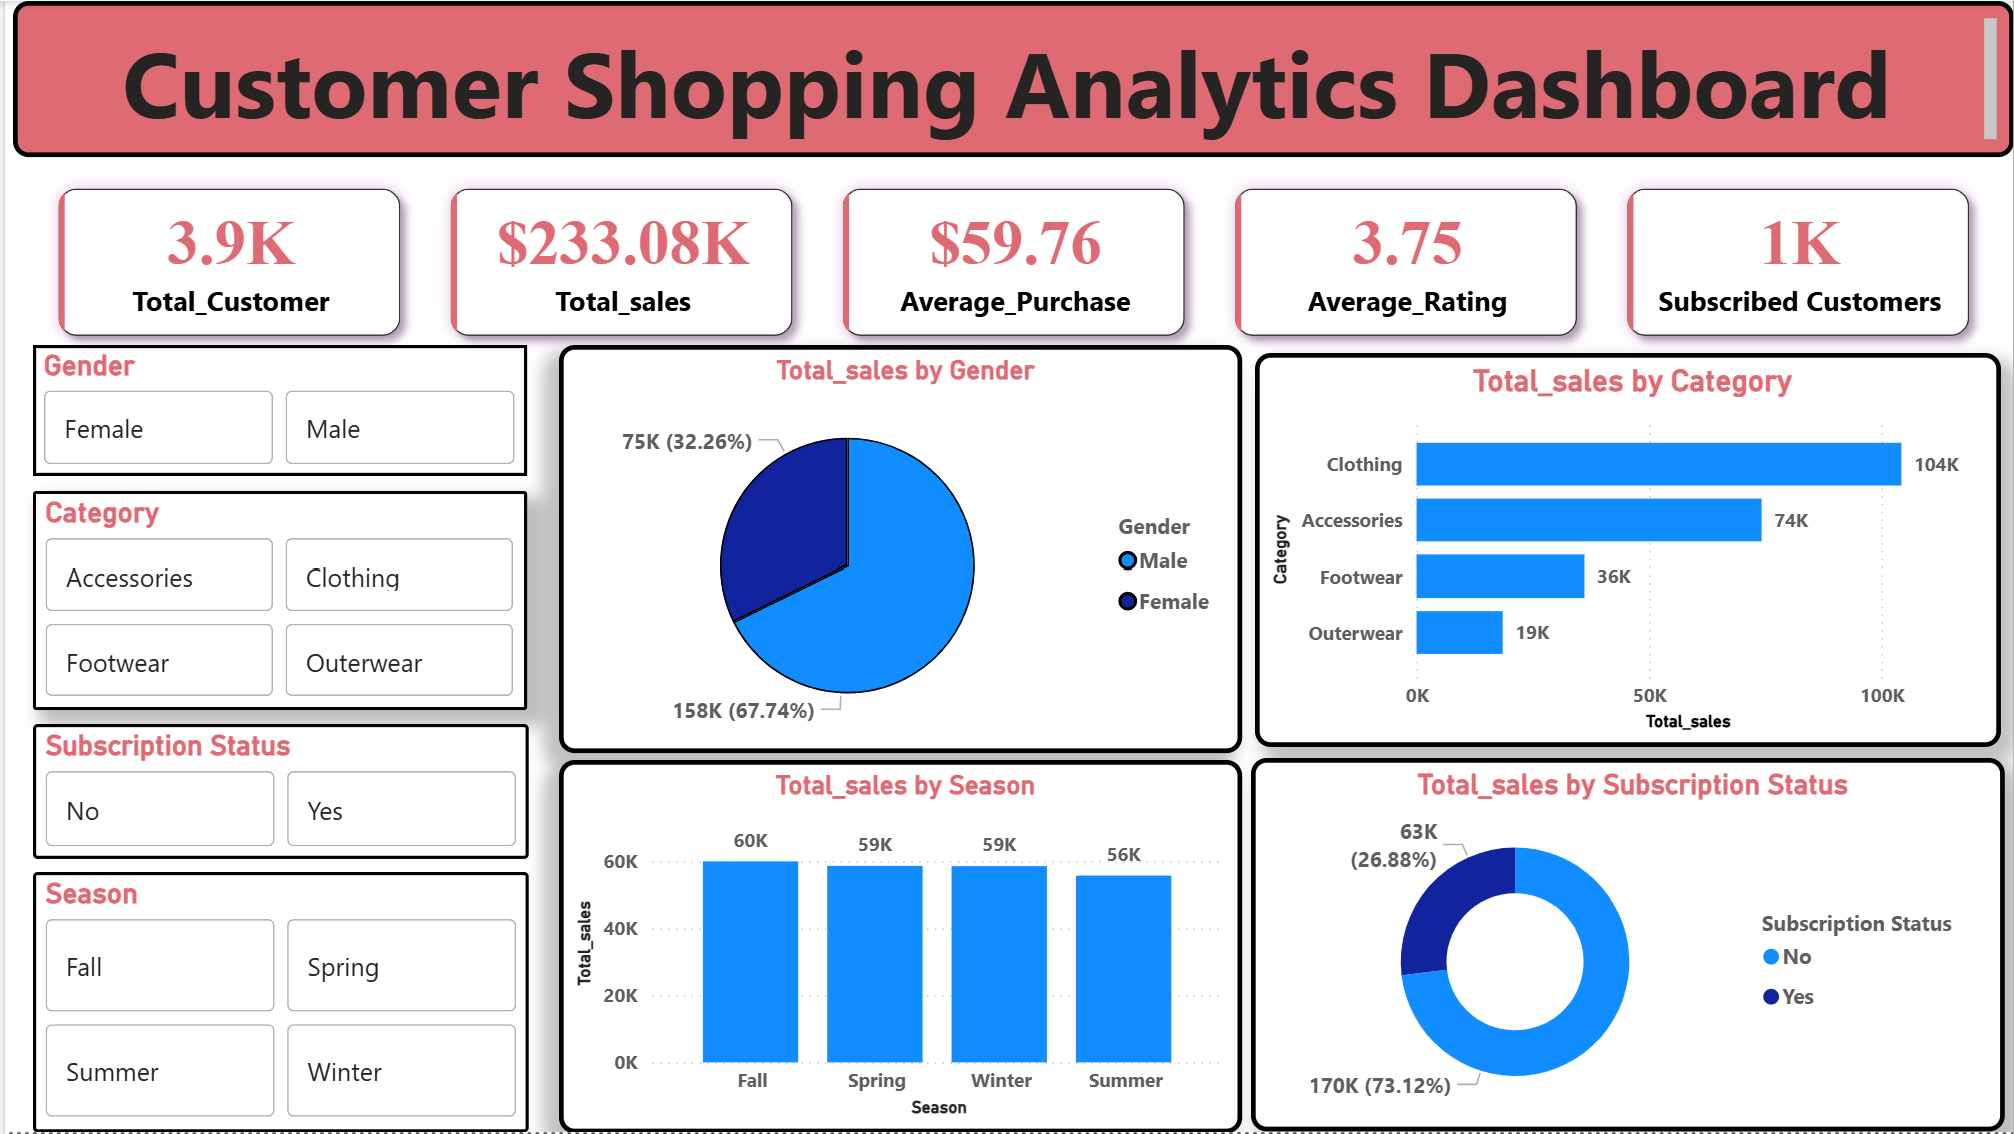

What the dashboard file says about the page in this screenshot:
{"tool":"powerbi","page":{"name":"Executive Summary","canvas":[1280,720],"ordinal":0},"visuals":[{"type":"cardVisual","fields":{"Data":["customer_shopping_behavior.Total_Customer","customer_shopping_behavior.Total_sales","customer_shopping_behavior.Average_Purchase","customer_shopping_behavior.Average_Rating","customer_shopping_behavior.Subscribed Customers"]},"box":[5.1,90,1276.1,152.9],"z":0},{"type":"textbox","box":[4.6,0,1275.4,99.5],"z":1000},{"type":"clusteredBarChart","fields":{"Category":["customer_shopping_behavior.Category"],"Y":["customer_shopping_behavior.Total_sales"]},"box":[796.8,224.9,475.5,250.6],"z":2000},{"type":"pieChart","fields":{"Category":["customer_shopping_behavior.Gender"],"Y":["customer_shopping_behavior.Total_sales"]},"box":[353.4,219.8,435.7,259.6],"z":3000},{"type":"columnChart","fields":{"Category":["customer_shopping_behavior.Season"],"Y":["customer_shopping_behavior.Total_sales"]},"box":[353.4,483.2,435.7,237.8],"z":4000},{"type":"donutChart","fields":{"Category":["customer_shopping_behavior.Subscription Status"],"Y":["customer_shopping_behavior.Total_sales"]},"box":[794.2,481.9,480.6,237.8],"z":5000},{"type":"advancedSlicerVisual","fields":{"Values":["customer_shopping_behavior.Gender"]},"box":[18,219.8,314.9,83.5],"z":6000},{"type":"advancedSlicerVisual","fields":{"Values":["customer_shopping_behavior.Category"]},"box":[18,312.3,314.9,138.8],"z":7000},{"type":"advancedSlicerVisual","fields":{"Values":["customer_shopping_behavior.Subscription Status"]},"box":[18,460.1,316.1,86.1],"z":8000},{"type":"advancedSlicerVisual","fields":{"Values":["customer_shopping_behavior.Season"]},"box":[18,555.2,316.1,165.8],"z":9000}]}

Visuals, with their boxes in screenshot pixels (x1, y1, x2, y2), scaled from the page's 1280x720 canvas onto the 2014x1134 screenshot:
cardVisual - customer_shopping_behavior.Total_Customer x customer_shopping_behavior.Total_sales: (x1=8, y1=142, x2=2013, y2=383)
textbox: (x1=7, y1=0, x2=2013, y2=157)
clusteredBarChart - customer_shopping_behavior.Category x customer_shopping_behavior.Total_sales: (x1=1254, y1=354, x2=2002, y2=749)
pieChart - customer_shopping_behavior.Gender x customer_shopping_behavior.Total_sales: (x1=556, y1=346, x2=1242, y2=755)
columnChart - customer_shopping_behavior.Season x customer_shopping_behavior.Total_sales: (x1=556, y1=761, x2=1242, y2=1133)
donutChart - customer_shopping_behavior.Subscription Status x customer_shopping_behavior.Total_sales: (x1=1250, y1=759, x2=2006, y2=1133)
advancedSlicerVisual - customer_shopping_behavior.Gender: (x1=28, y1=346, x2=524, y2=478)
advancedSlicerVisual - customer_shopping_behavior.Category: (x1=28, y1=492, x2=524, y2=710)
advancedSlicerVisual - customer_shopping_behavior.Subscription Status: (x1=28, y1=725, x2=526, y2=860)
advancedSlicerVisual - customer_shopping_behavior.Season: (x1=28, y1=874, x2=526, y2=1133)
